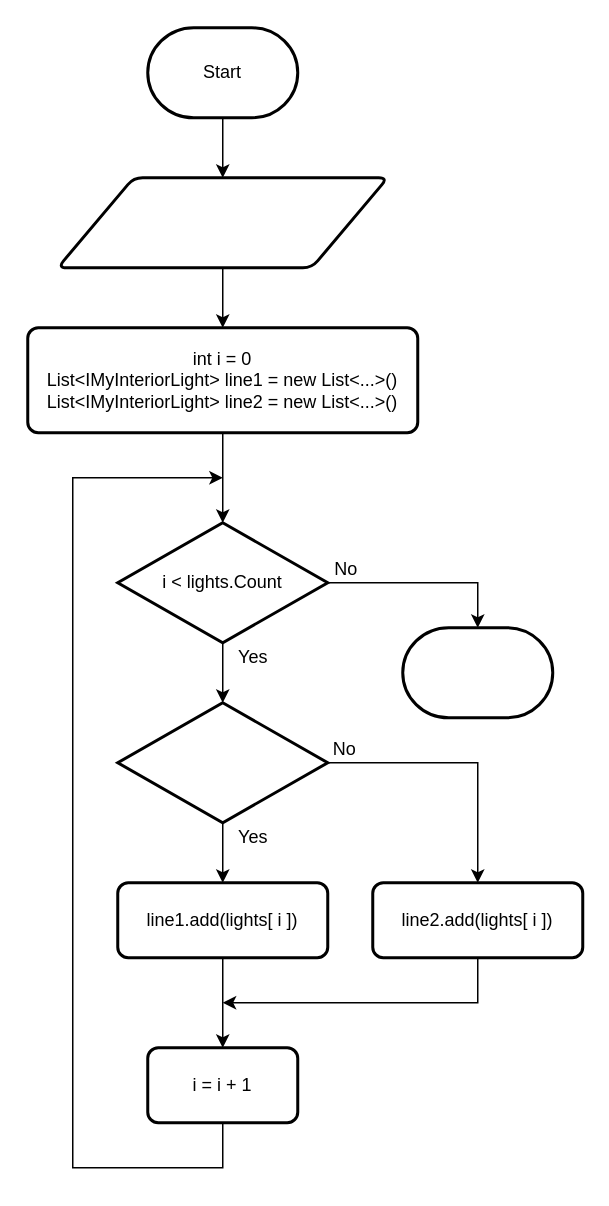
This 609x1206 diagram has some shape labels left out. The shapes that lost their labels are listed below. From the top down, each one's centre as x and y in pixels, then its label:
At (222,222): "List<IMyInteriorLight> lights".
At (477,672): "End".
At (222,762): "i % 2 == 0".
